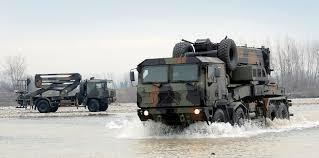truck: (129, 35, 294, 134), (16, 72, 117, 113)
